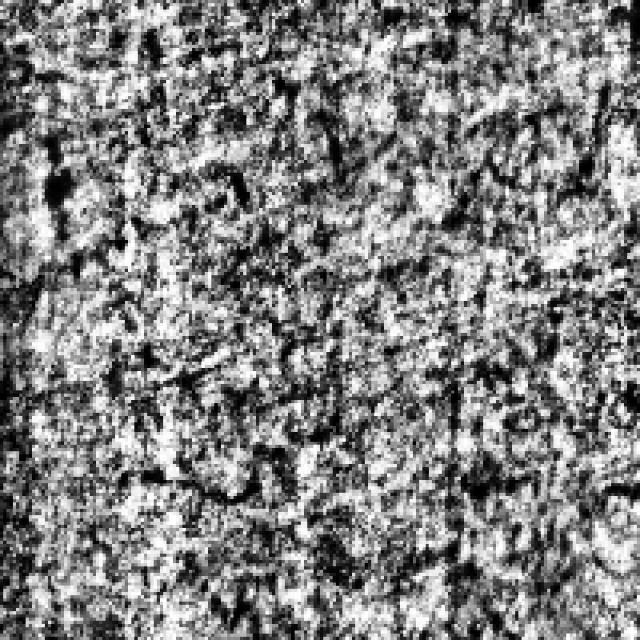Pitted_Surface: (80, 458, 262, 630)
